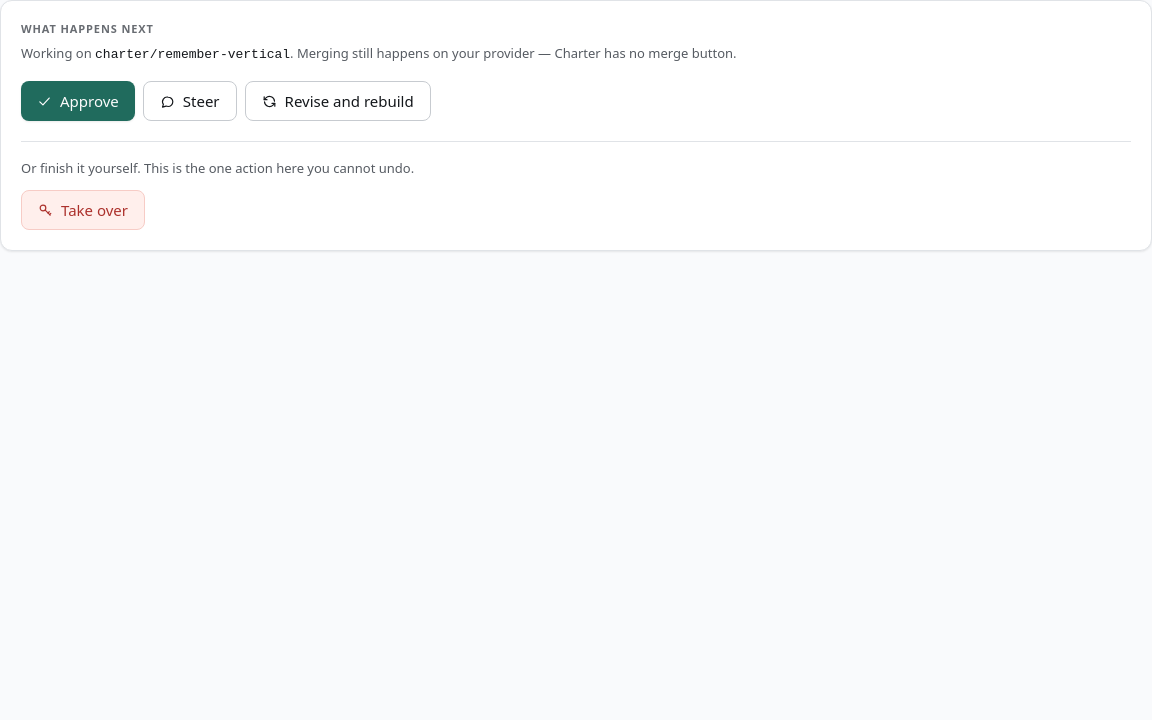
Test case: post-hoc session actions (§7.5) › will not send an empty steering instruction
Click the button "Steer" at (190, 101), box [143,81,237,121]
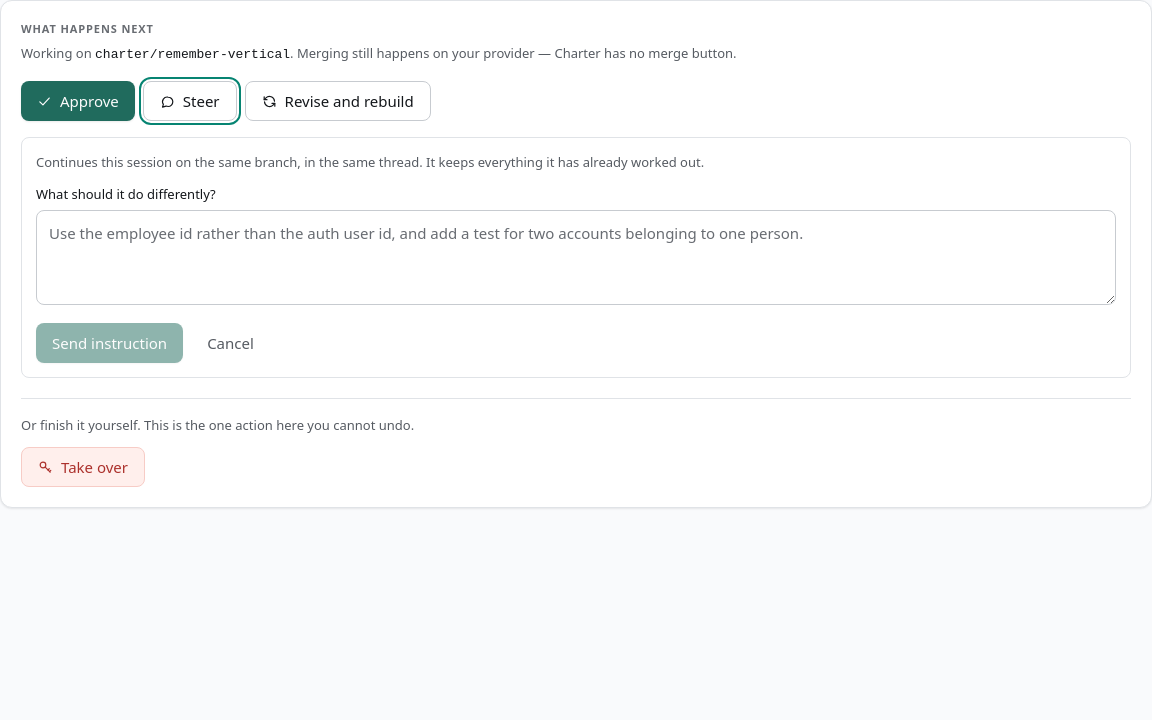
Result: the button "Send instruction" is disabled at [36,323,183,363]
